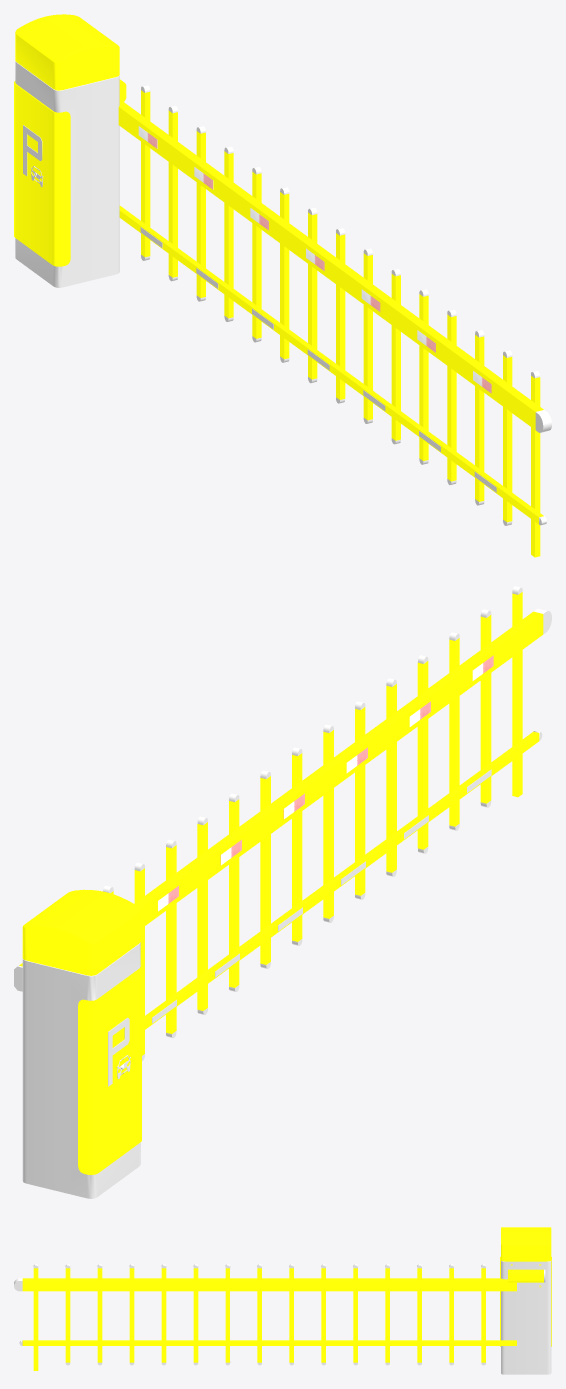
The model's file is Parking_Hole.glb.
3 renders of one model, top to bottom at view 1: azimuth 30°, elevation 25°; view 2: azimuth 150°, elevation 25°; view 3: azimuth 270°, elevation 25°, orthographic. The views are drawn at different scales.
Parts seen in each view (by area): view 1: Parking_Hole; view 2: Parking_Hole; view 3: Parking_Hole.
Part boxes in pixels (x1=…): Parking_Hole: x1=14, y1=14, x2=551, y2=557; Parking_Hole: x1=14, y1=586, x2=551, y2=1198; Parking_Hole: x1=14, y1=1227, x2=551, y2=1374.
Bounding box in the file's own units: 0.35 × 0.9999 × 3.65.
3 materials, 1 textured.
